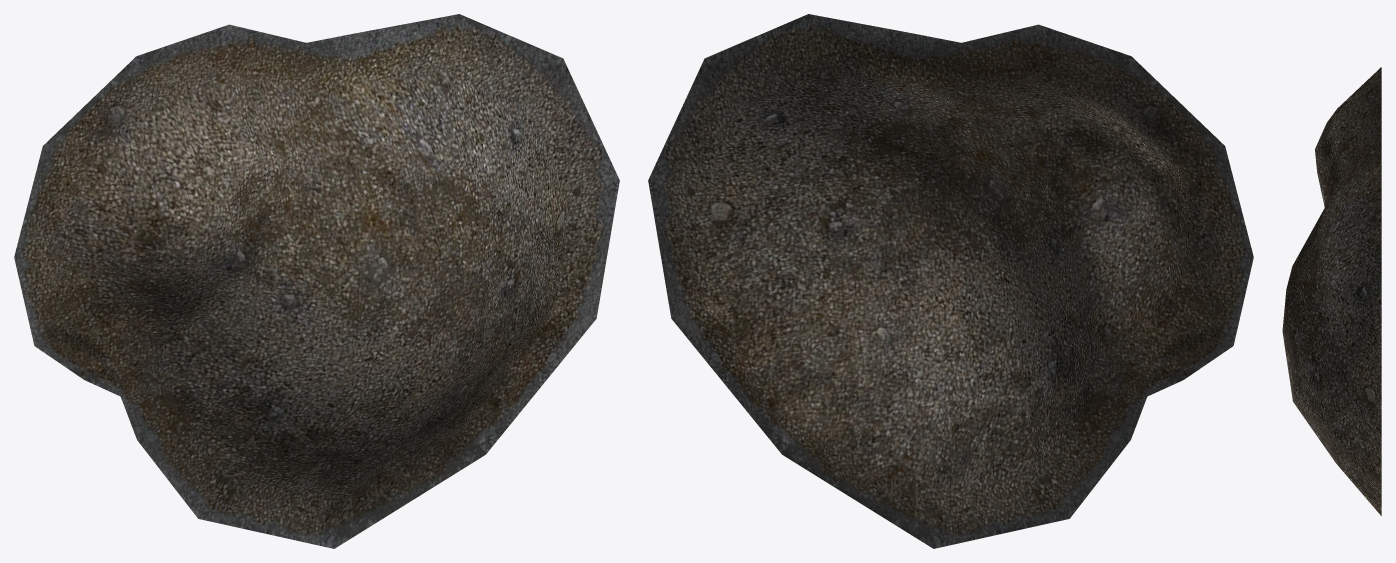
Rendered from hd_env008_SandHeap3.glb.
3 views of the same model, side by side, from view 1: azimuth 30°, elevation 25°; view 2: azimuth 150°, elevation 25°; view 3: azimuth 270°, elevation 25° (orthographic). The views are drawn at different scales.
Parts seen in each view (by area): view 1: set_0_group_0; view 2: set_0_group_0; view 3: set_0_group_0.
Boxes of the visible parts, bbox=[...] form: set_0_group_0: bbox=[14, 14, 619, 548]; set_0_group_0: bbox=[648, 14, 1253, 548]; set_0_group_0: bbox=[1282, 67, 1381, 515].
Size of the model in its own units: 5.04 by 4.38 by 0.8731.
Materials: 1 (1 with a texture image).
